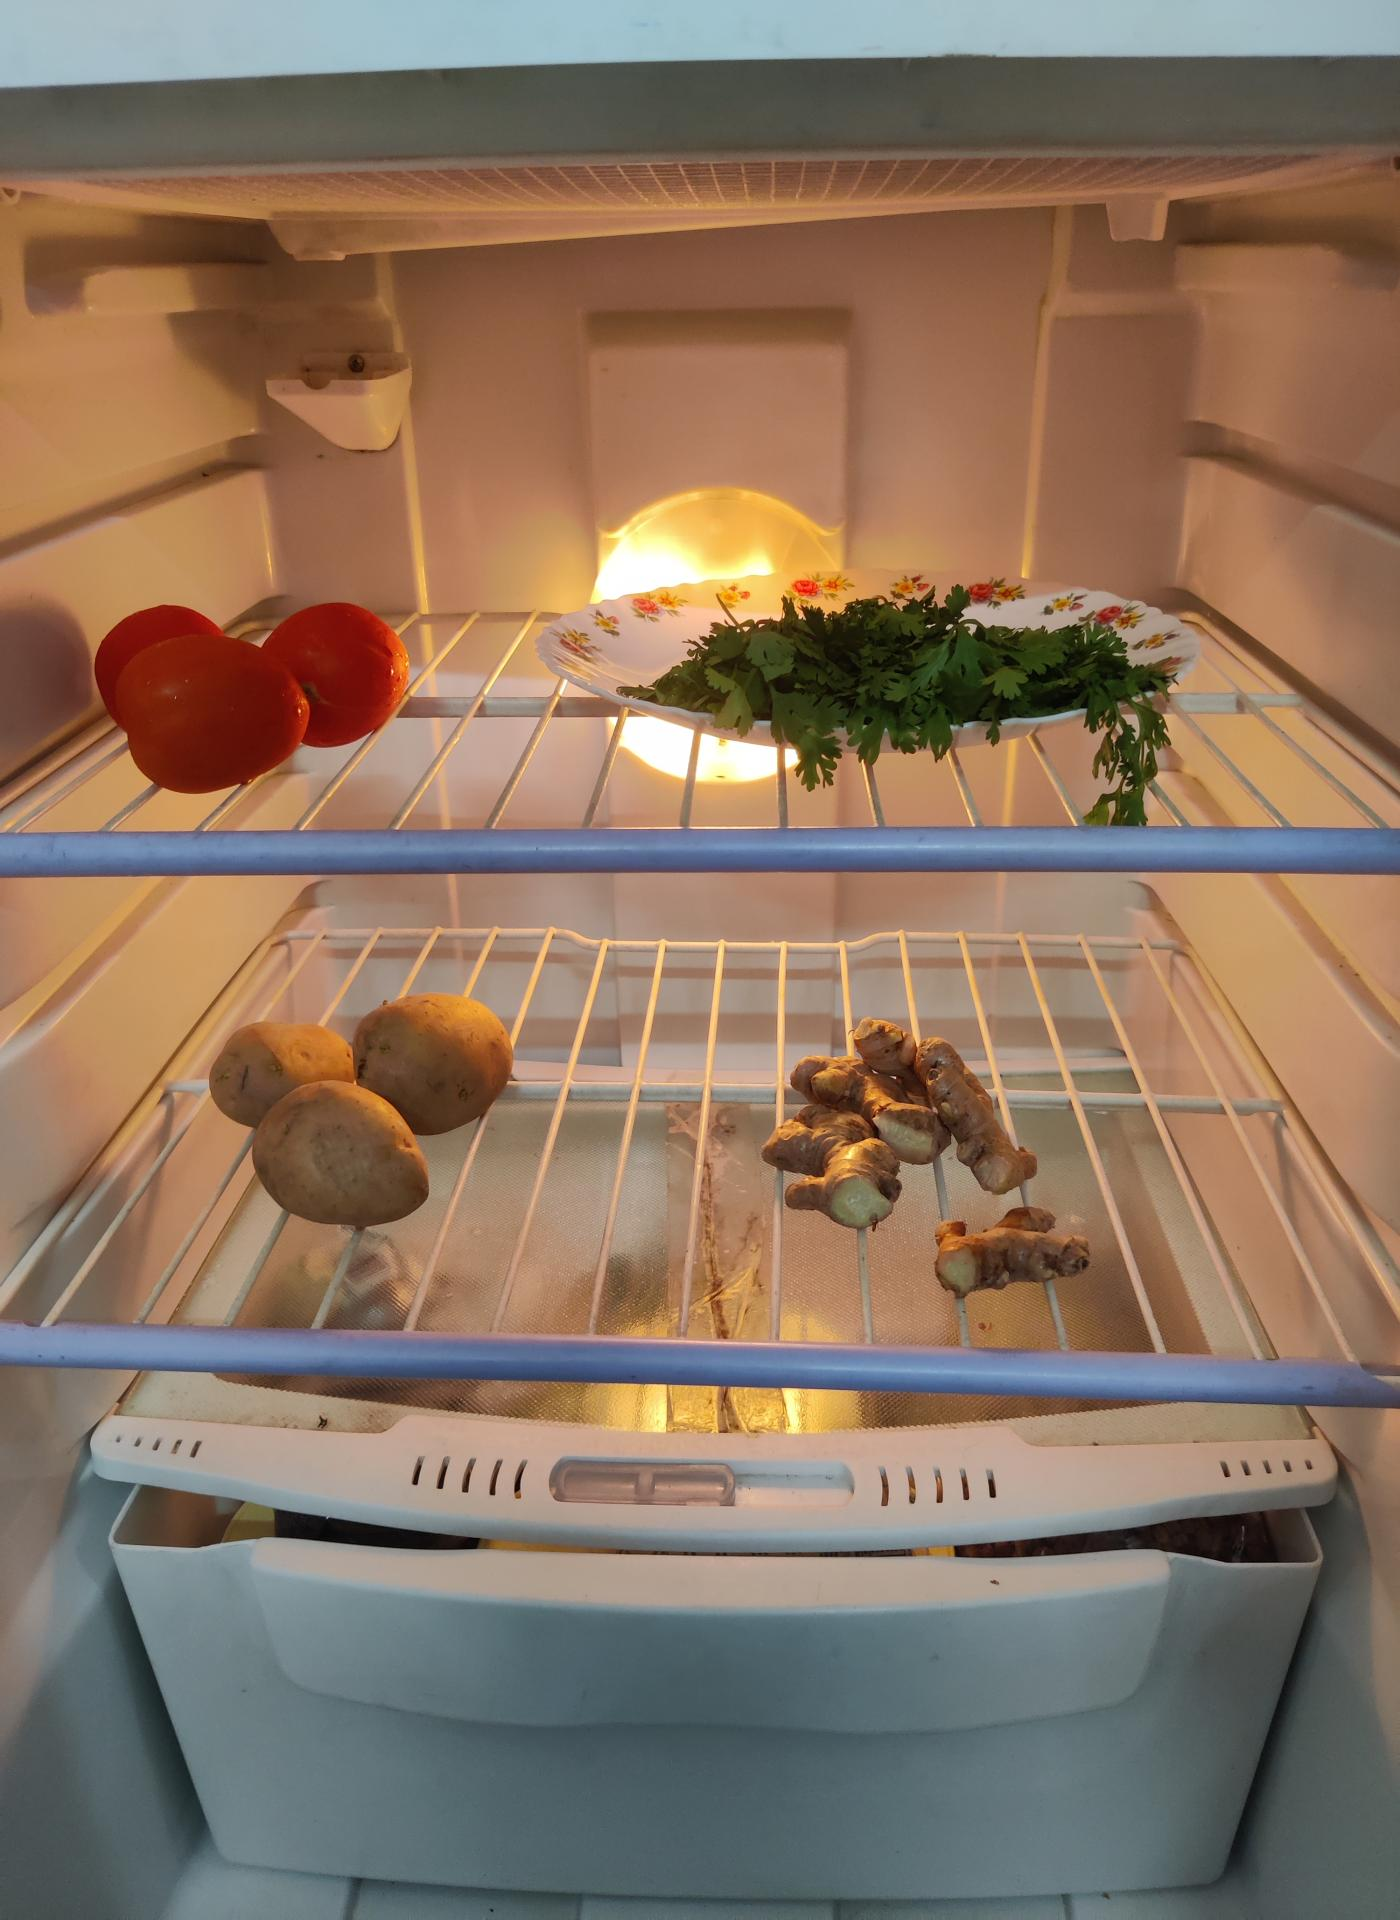coriander: (647, 595, 1182, 744)
ginger: (771, 1032, 1045, 1210), (942, 1203, 1088, 1288)
potato: (207, 999, 504, 1222)
tomato: (95, 599, 413, 789)
